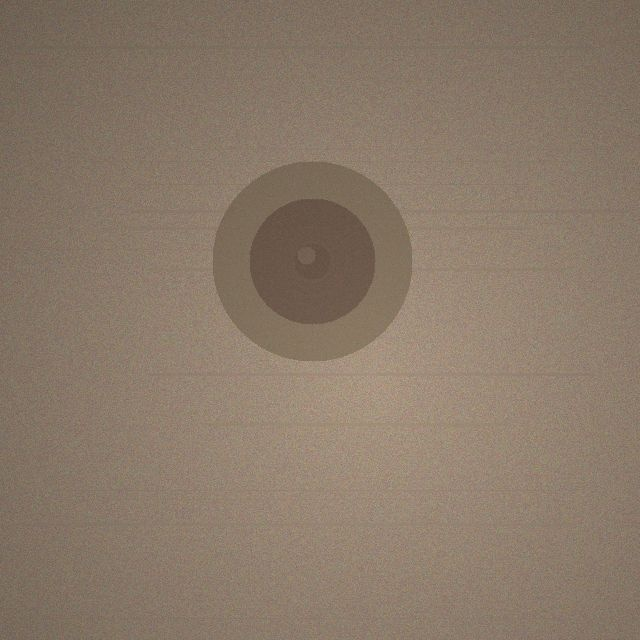good: (212, 161, 412, 361)
